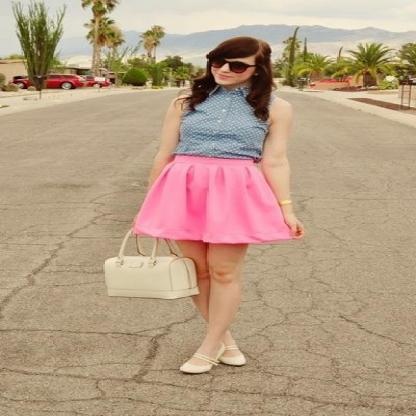bag: (103, 248, 198, 298)
shirt: (174, 79, 272, 163)
shoe: (178, 343, 245, 379)
skirt: (127, 155, 286, 243)
